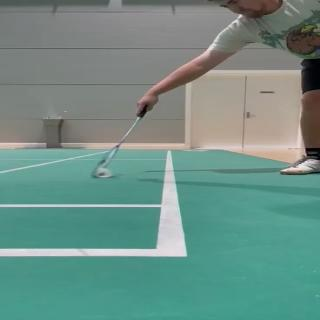Shuttle: (94, 167, 112, 178)
